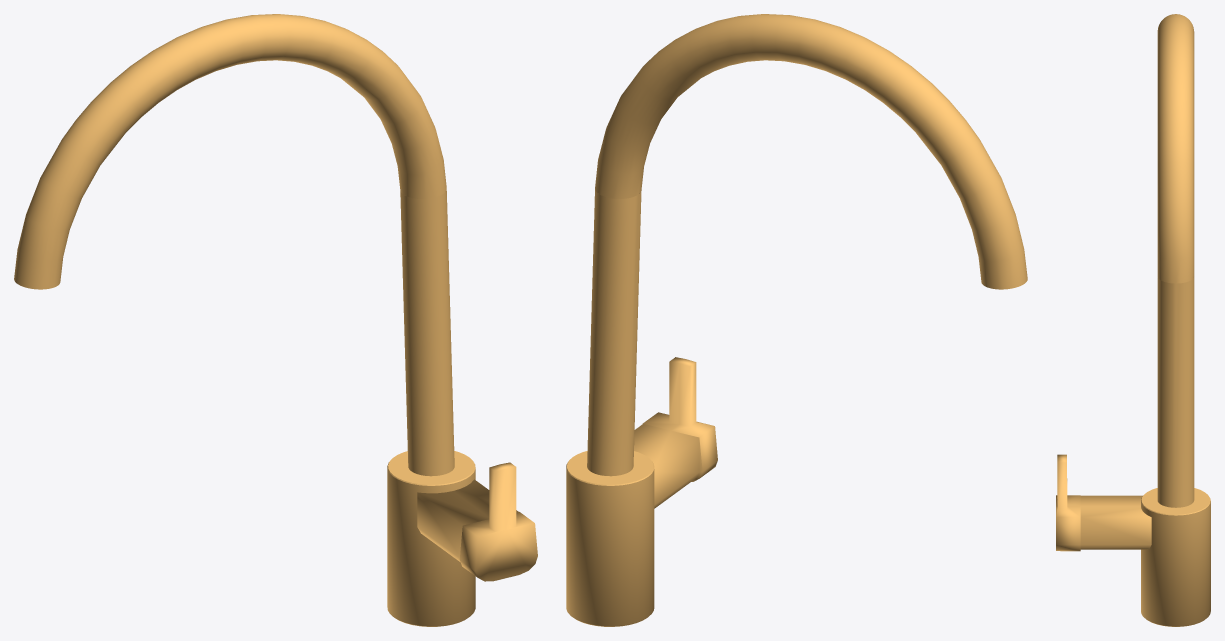
The model's file is faucet_AlignBrushedGold.glb.
3 views of the same model, side by side, from view 1: azimuth 30°, elevation 25°; view 2: azimuth 150°, elevation 25°; view 3: azimuth 270°, elevation 25° (orthographic). The views are drawn at different scales.
Visible parts, largest first — view 1: Align Brushed Gold; view 2: Align Brushed Gold; view 3: Align Brushed Gold.
Part boxes in pixels (x1=…): Align Brushed Gold: x1=14, y1=14, x2=537, y2=626; Align Brushed Gold: x1=566, y1=14, x2=1027, y2=626; Align Brushed Gold: x1=1056, y1=14, x2=1210, y2=626.
Bounding box in the file's own units: 0.2775 × 0.373 × 0.1039.
